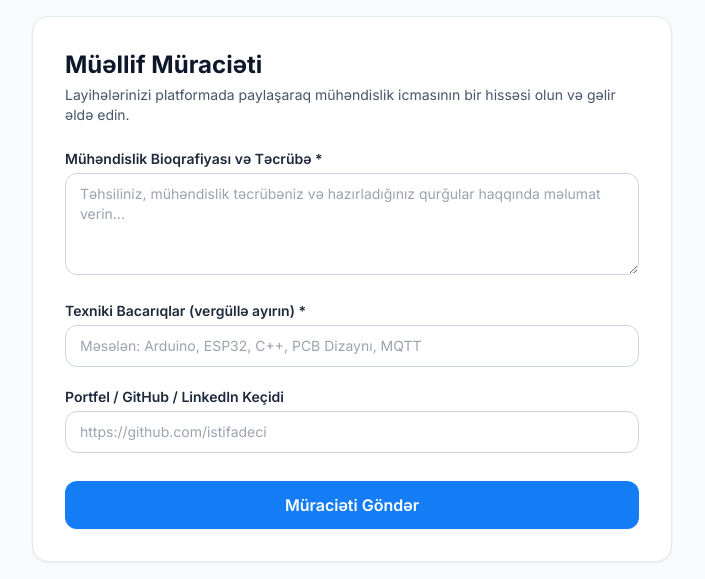
Test: AuthorApplyPage Component › submits application successfully and shows pending notification
Replace the text in the text box with placeholder "Təhsiliniz, mühəndislik təcrübəniz və hazırladığınız qurğular haqqında məlumat verin..." with "Mikrokontroller təcrübəsi 5 il" at coordinates (352, 224), box 65,173 -> 639,275
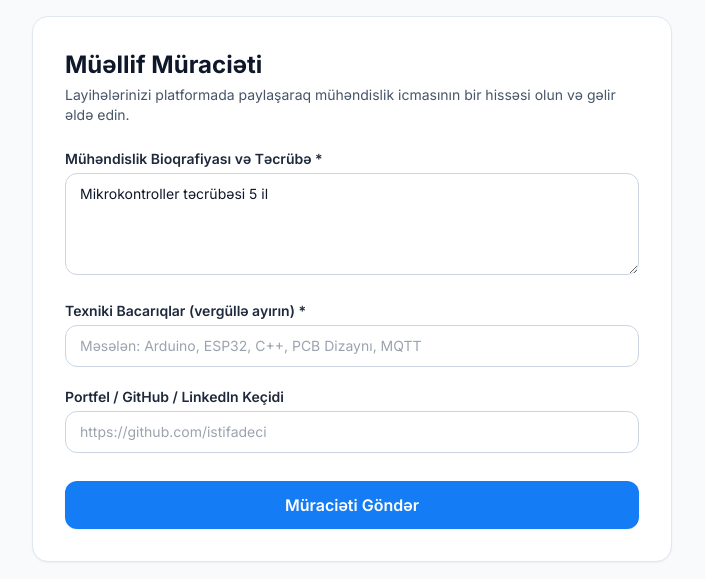
Type "Arduino, ESP32" into the field with placeholder "Məsələn: Arduino, ESP32, C++, PCB Dizaynı, MQTT" at coordinates (352, 346), box 65,325 -> 639,367
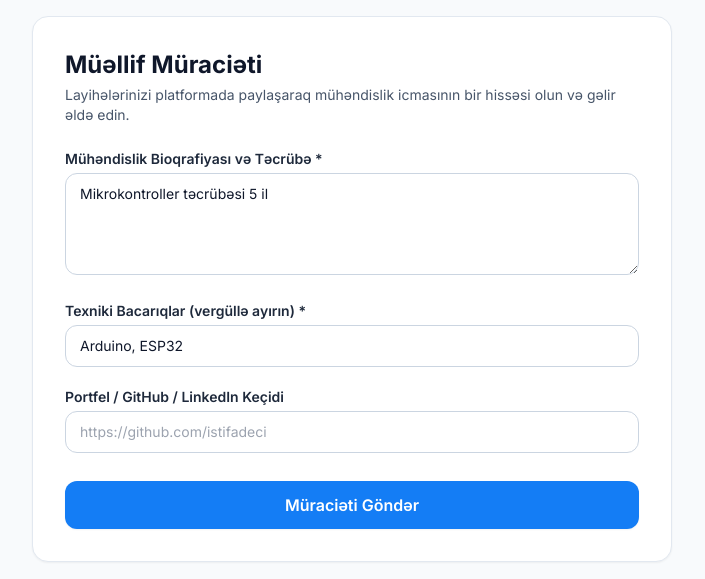
Click the button "Müraciəti Göndər" at coordinates (352, 505), box 65,481 -> 639,529
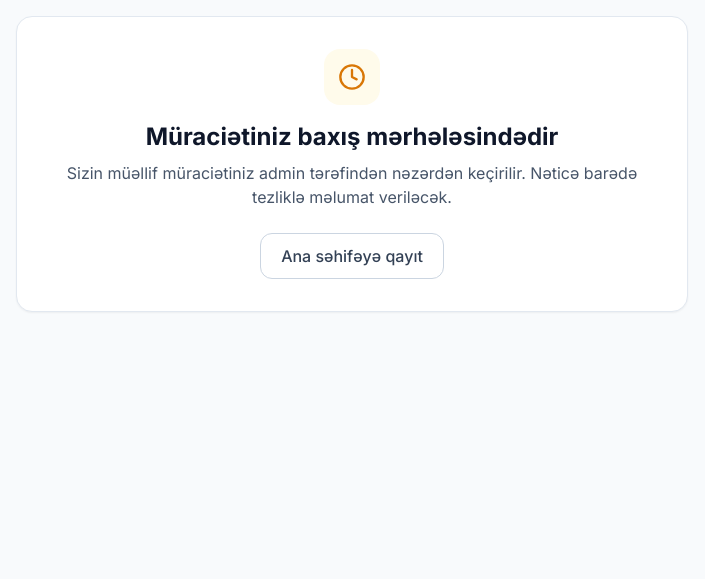
Expected: the heading "Müraciətiniz baxış mərhələsindədir" is shown, 146,122 -> 558,151
